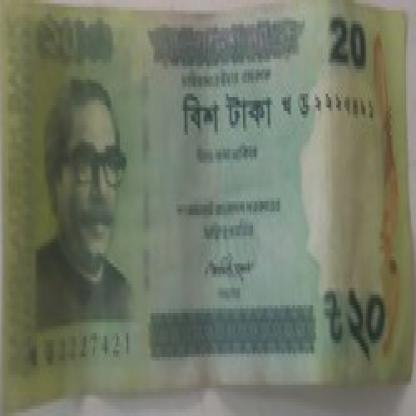Twenty: (172, 86, 282, 146), (318, 284, 396, 368), (37, 7, 118, 73), (321, 7, 376, 83)
